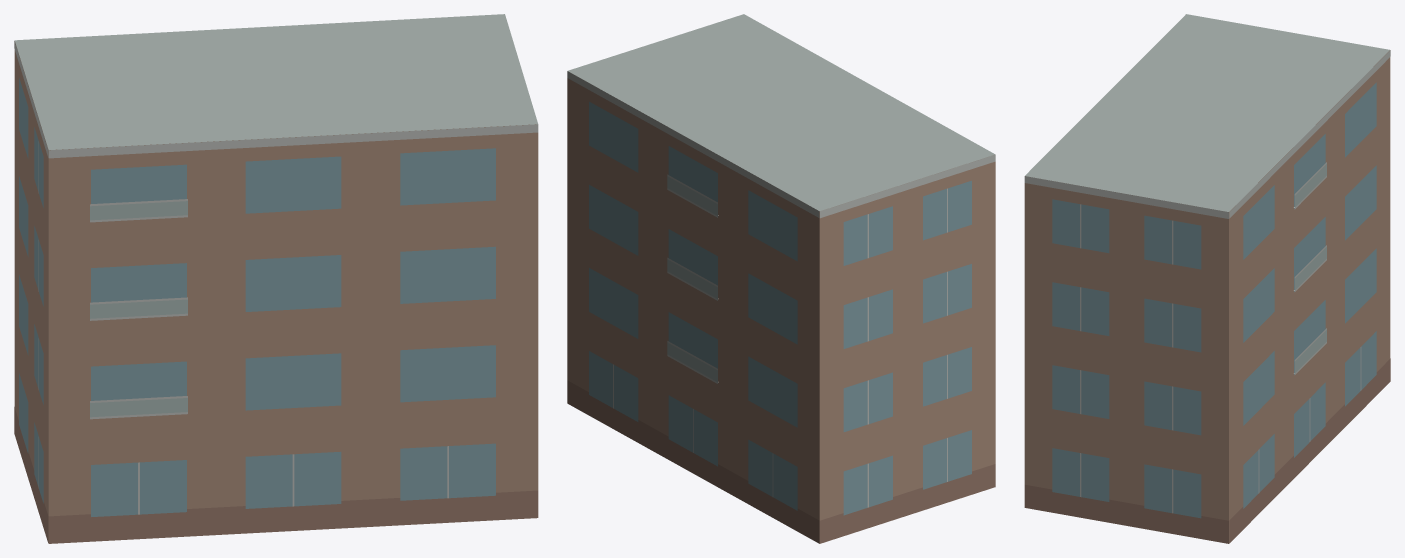
The model's file is survey-upis-32954454.glb.
3 views of the same model, side by side, from view 1: azimuth 30°, elevation 25°; view 2: azimuth 150°, elevation 25°; view 3: azimuth 270°, elevation 25° (orthographic). The views are drawn at different scales.
Visible parts, largest first — view 1: survey-upis-32954454.tmp; view 2: survey-upis-32954454.tmp; view 3: survey-upis-32954454.tmp.
Boxes of the visible parts, left/top/right/bottom form: survey-upis-32954454.tmp: left=14, top=14, right=538, bottom=543; survey-upis-32954454.tmp: left=567, top=14, right=995, bottom=543; survey-upis-32954454.tmp: left=1024, top=14, right=1390, bottom=543.
Size of the model in its own units: 14.87 by 11.6 by 11.6.
